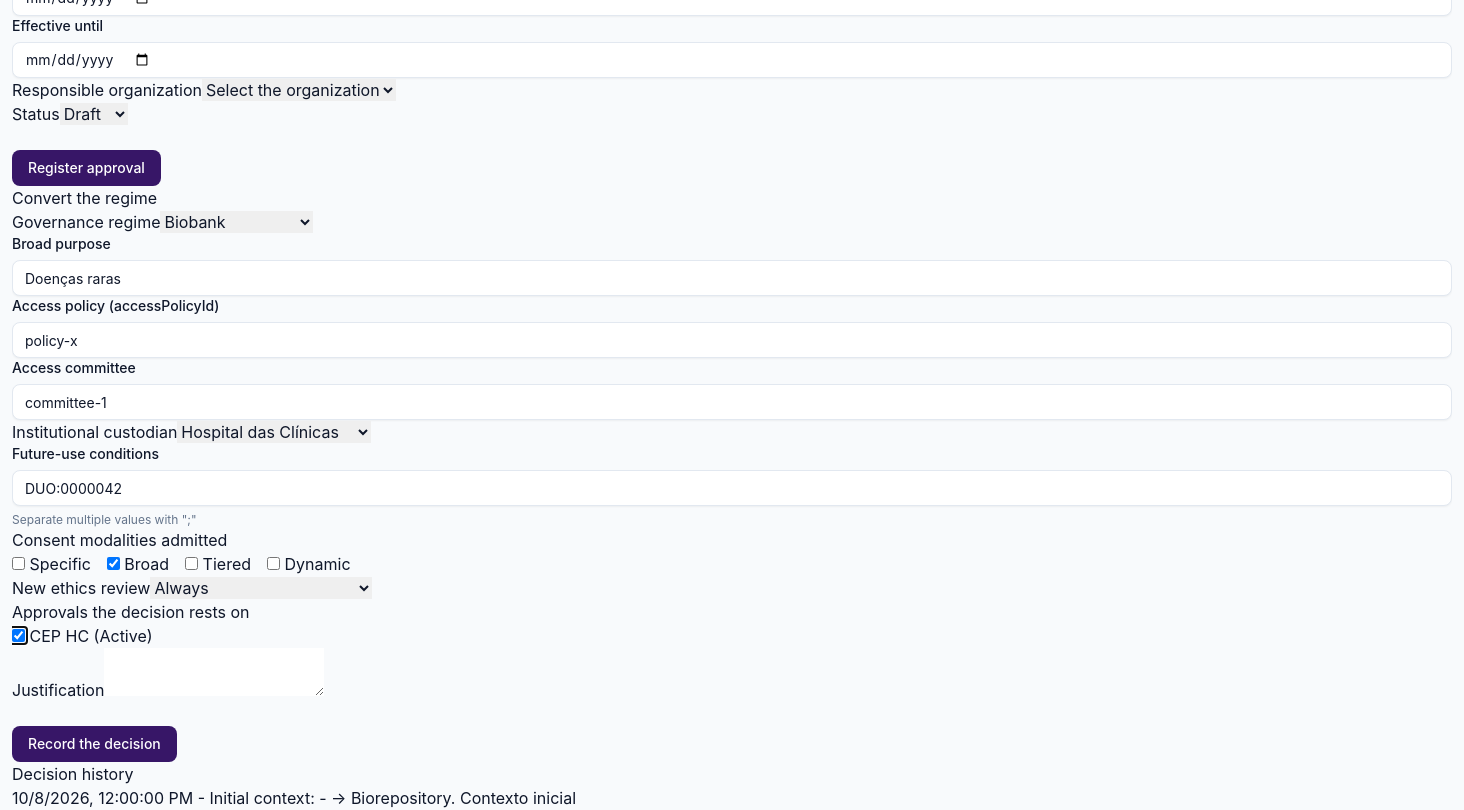
Test case: CollectionGovernancePanel › records a regime conversion with the biobank context and shows a refusal
This screenshot has width=1464, height=810.
Earlier steps of the test are not shown.
(page scrolled)
Click the text box with test id "governance-event-justification-input".
click(214, 672)  # box [104,648,324,696]
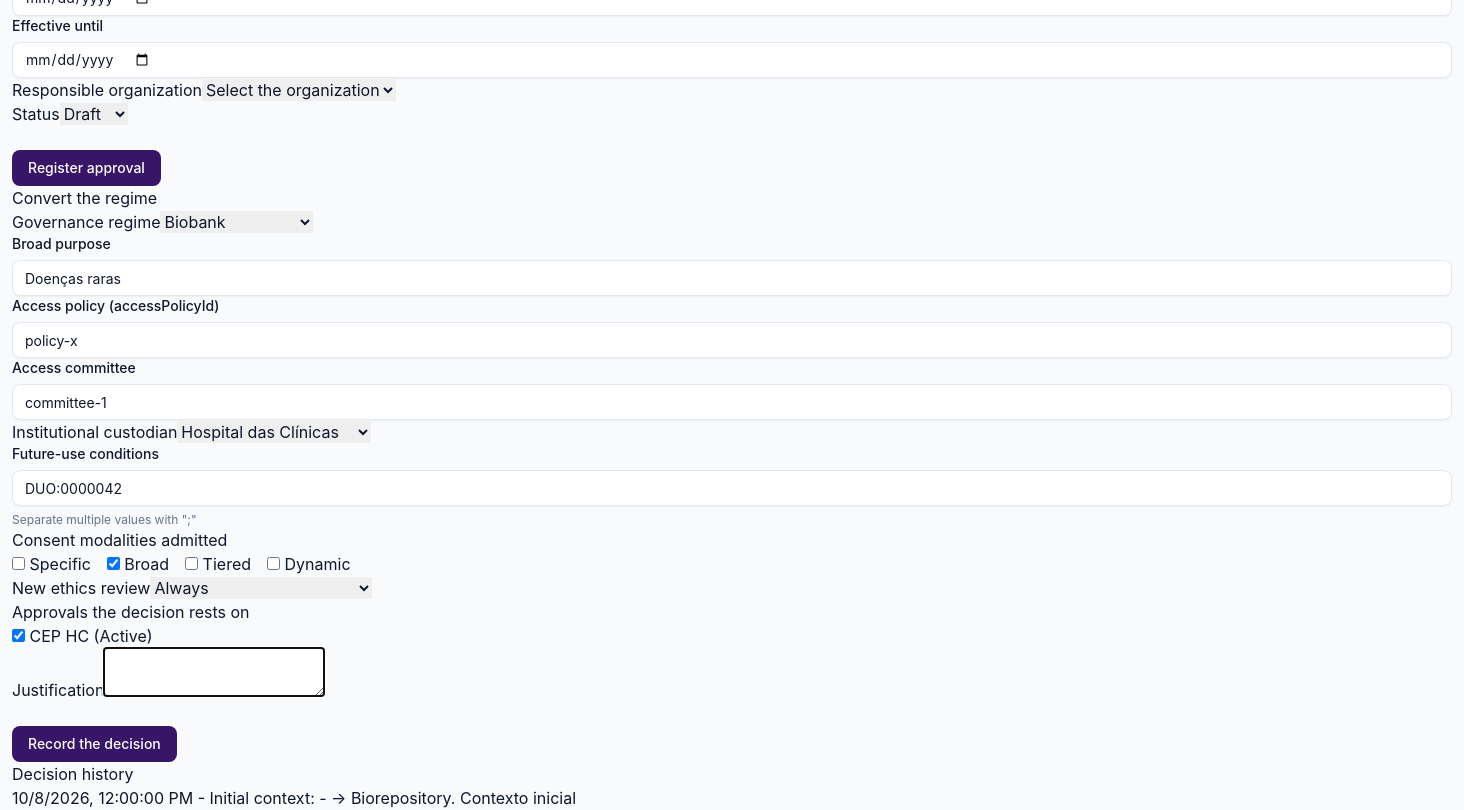
Type keys "Conversão para biobanco"
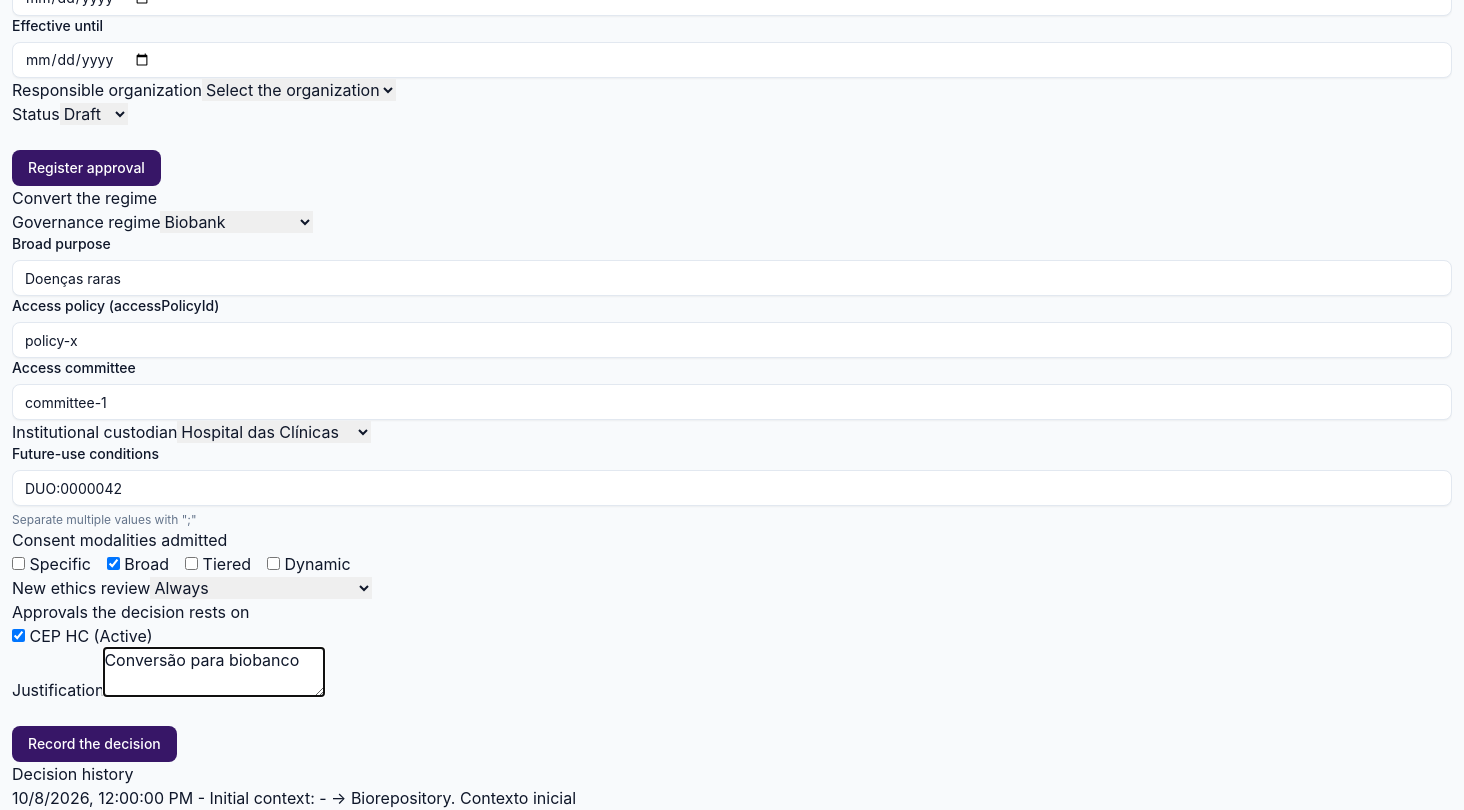
Click the button with test id "governance-event-submit".
click(94, 744)  # box [12,726,177,762]
(page scrolled)
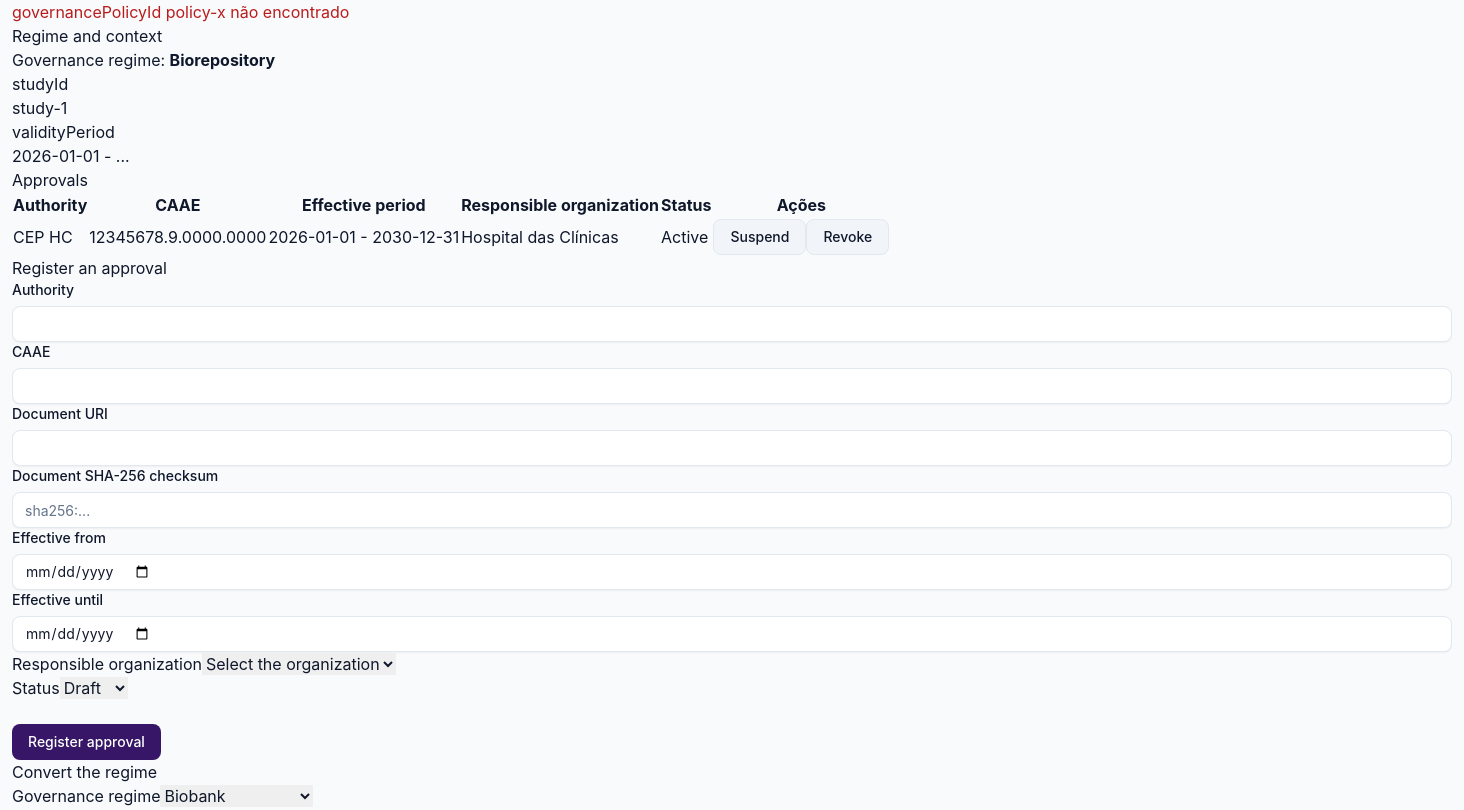
Check: the message with test id "collection-governance-error" shows "policy-x", box [12,2,349,22]
